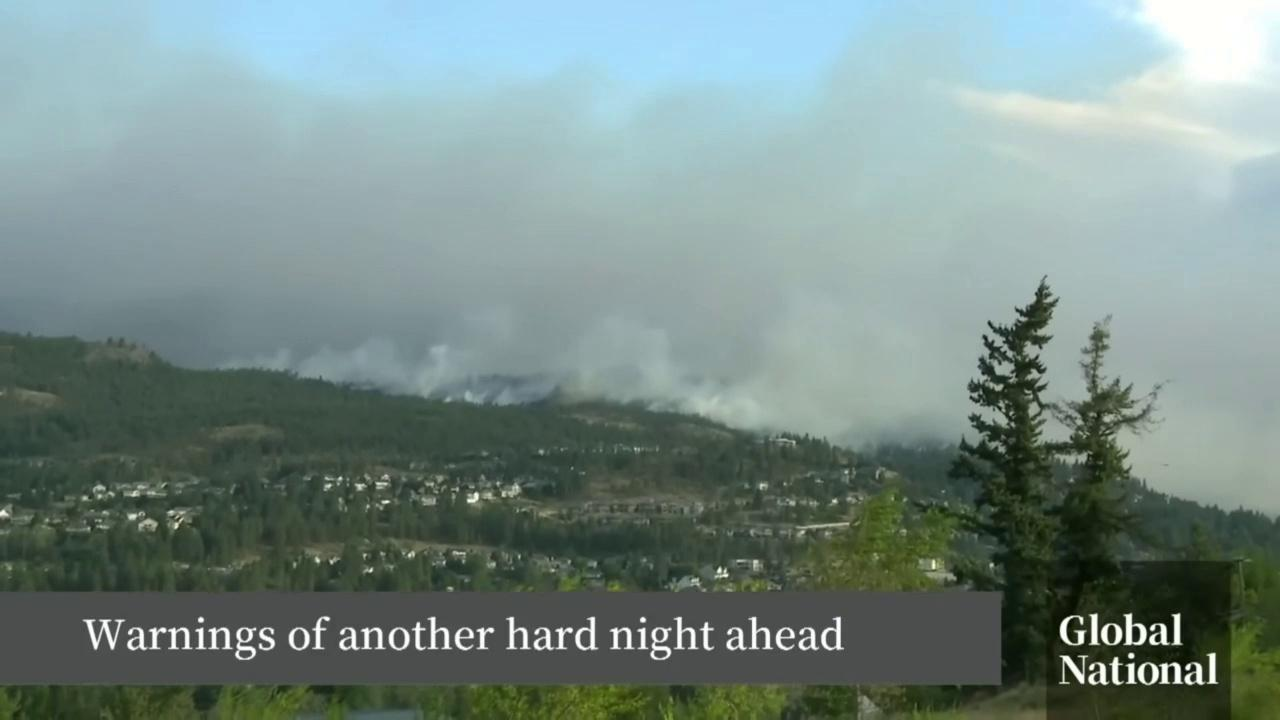smoke: (0, 40, 1280, 528)
